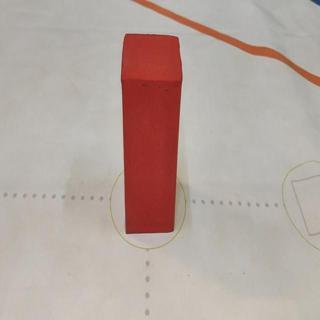redbox: (123, 34, 179, 234)
